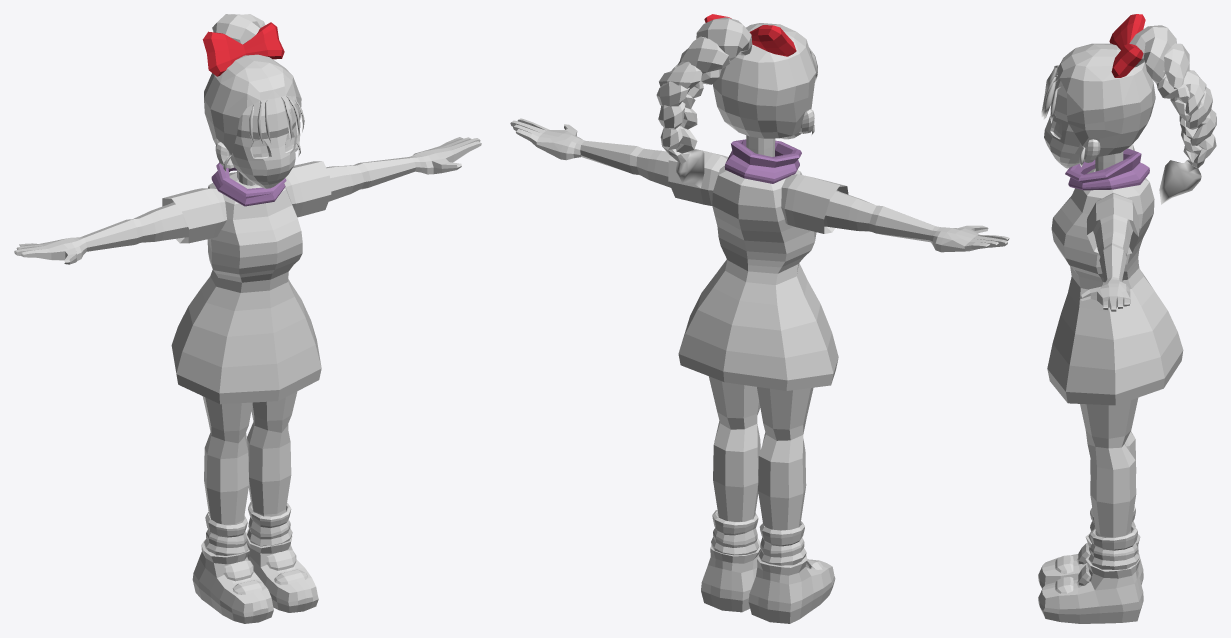
Rendered from bulma_low_poly_preview_24500d.glb.
The picture shows the model from 3 angles, left to right: view 1: azimuth 30°, elevation 25°; view 2: azimuth 150°, elevation 25°; view 3: azimuth 270°, elevation 25°; orthographic projection. The views are drawn at different scales.
Visible parts, largest first — view 1: torso y brazos, Cube.004, Cube, pelo, cabeza, Cylinder.001, object 4, Cylinder; view 2: torso y brazos, pelo, Cube.004, Cube, Cylinder.001, Cylinder, object 4; view 3: torso y brazos, pelo, Cube, Cube.004, cabeza, Cylinder, Cylinder.001, object 4.
Boxes of the visible parts, x1,y1,x2,y2 form: torso y brazos: [14, 137, 481, 404]; Cube.004: [202, 391, 297, 525]; Cube: [192, 528, 318, 623]; pelo: [204, 14, 304, 172]; cabeza: [215, 95, 300, 188]; Cylinder.001: [204, 502, 292, 555]; object 4: [202, 22, 284, 76]; Cylinder: [211, 162, 286, 206]; torso y brazos: [510, 118, 1009, 390]; pelo: [656, 17, 817, 187]; Cube.004: [709, 376, 813, 530]; Cube: [701, 538, 835, 623]; Cylinder.001: [711, 510, 806, 565]; Cylinder: [724, 139, 801, 183]; object 4: [704, 14, 796, 56]; torso y brazos: [1047, 144, 1183, 405]; pelo: [1041, 25, 1216, 204]; Cube: [1038, 533, 1143, 623]; Cube.004: [1080, 398, 1138, 537]; cabeza: [1044, 74, 1101, 168]; Cylinder: [1065, 148, 1149, 190]; Cylinder.001: [1088, 506, 1139, 569]; object 4: [1109, 14, 1145, 77].
Size of the model in its own units: 4.25 by 4.93 by 1.37.
